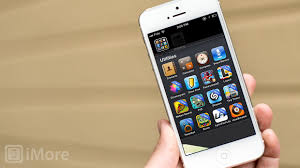iphone: (135, 1, 264, 168)
iphone5: (137, 1, 266, 168)
